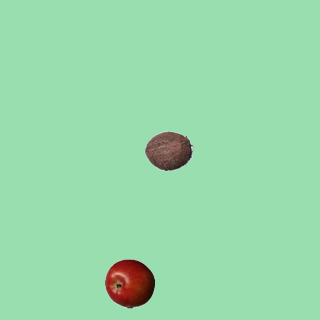Apple Braeburn: (104, 258, 154, 308)
Cocos: (143, 125, 193, 175)
